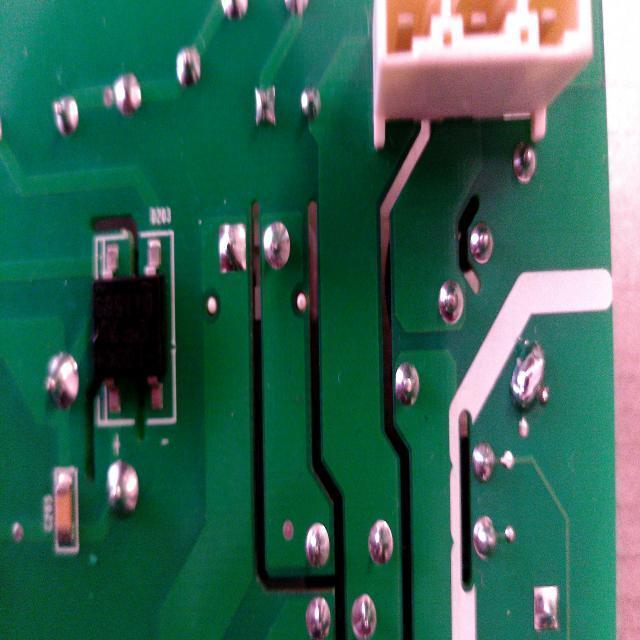Soldering shorted: (508, 333, 553, 420)
